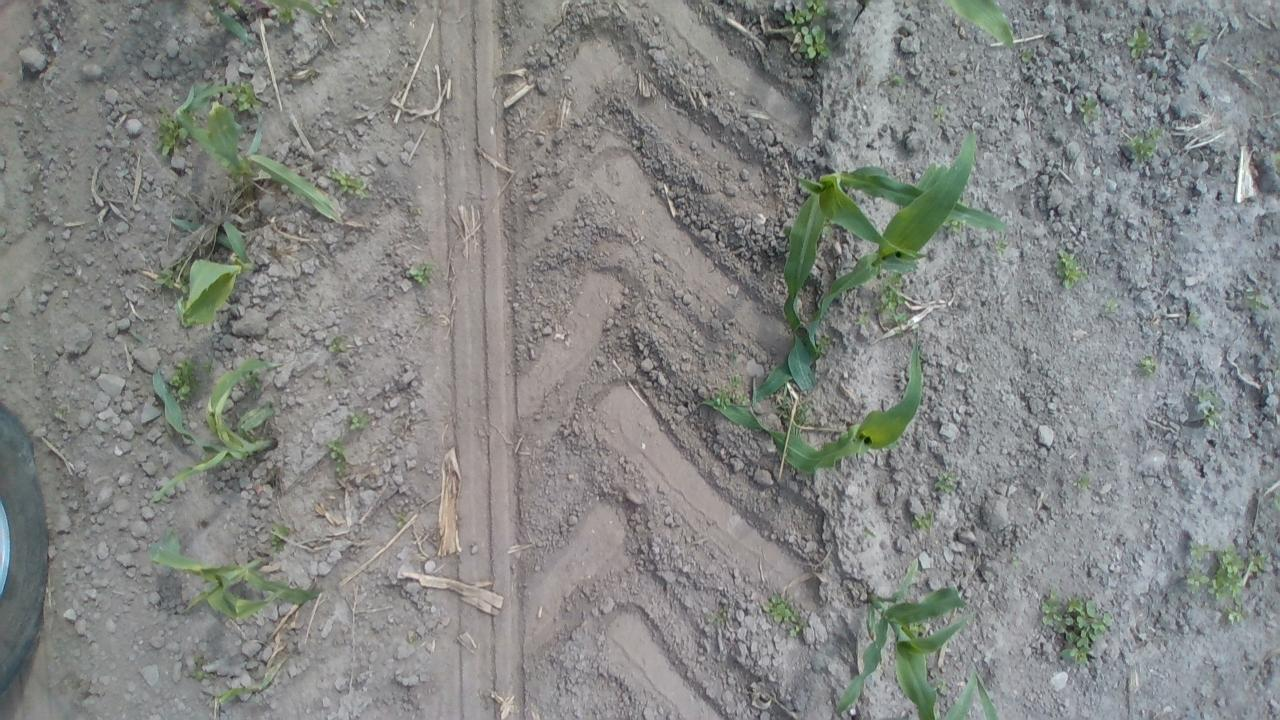Maize: (726, 144, 969, 400), (782, 138, 1004, 340), (827, 554, 1025, 720), (705, 343, 936, 476), (168, 78, 350, 222), (136, 352, 282, 506), (141, 524, 332, 626), (165, 214, 262, 330), (208, 0, 330, 42), (946, 0, 1014, 50)
Weeds: (1184, 537, 1271, 628), (1038, 588, 1114, 667), (785, 0, 836, 62), (761, 590, 810, 644), (874, 270, 912, 329), (1119, 120, 1169, 164), (167, 358, 212, 404), (1050, 246, 1092, 292), (1190, 384, 1224, 433), (154, 108, 187, 157), (328, 167, 369, 201), (226, 77, 262, 112), (721, 373, 752, 410), (1074, 91, 1104, 128), (1127, 23, 1154, 63), (325, 438, 349, 483), (1242, 284, 1270, 320), (406, 258, 436, 288), (188, 654, 214, 685), (934, 466, 960, 496), (326, 335, 358, 359), (926, 101, 954, 128), (266, 523, 290, 554), (1135, 352, 1164, 377), (1184, 18, 1209, 46), (910, 510, 938, 534), (346, 410, 374, 432), (1074, 468, 1096, 492), (886, 68, 906, 94), (989, 234, 1013, 255), (244, 369, 264, 394), (851, 310, 873, 331), (1100, 297, 1122, 316), (1018, 44, 1035, 68), (860, 524, 879, 545), (816, 334, 834, 356), (944, 217, 966, 235), (1185, 306, 1203, 328)
